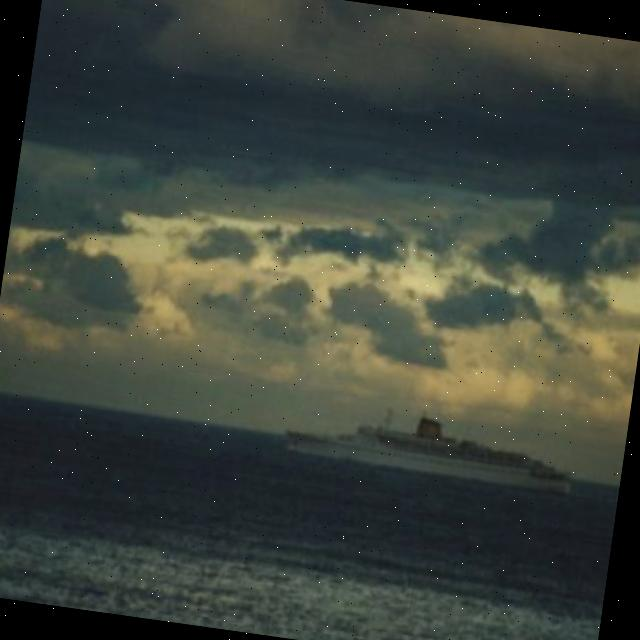St: (1, 1, 640, 428)
